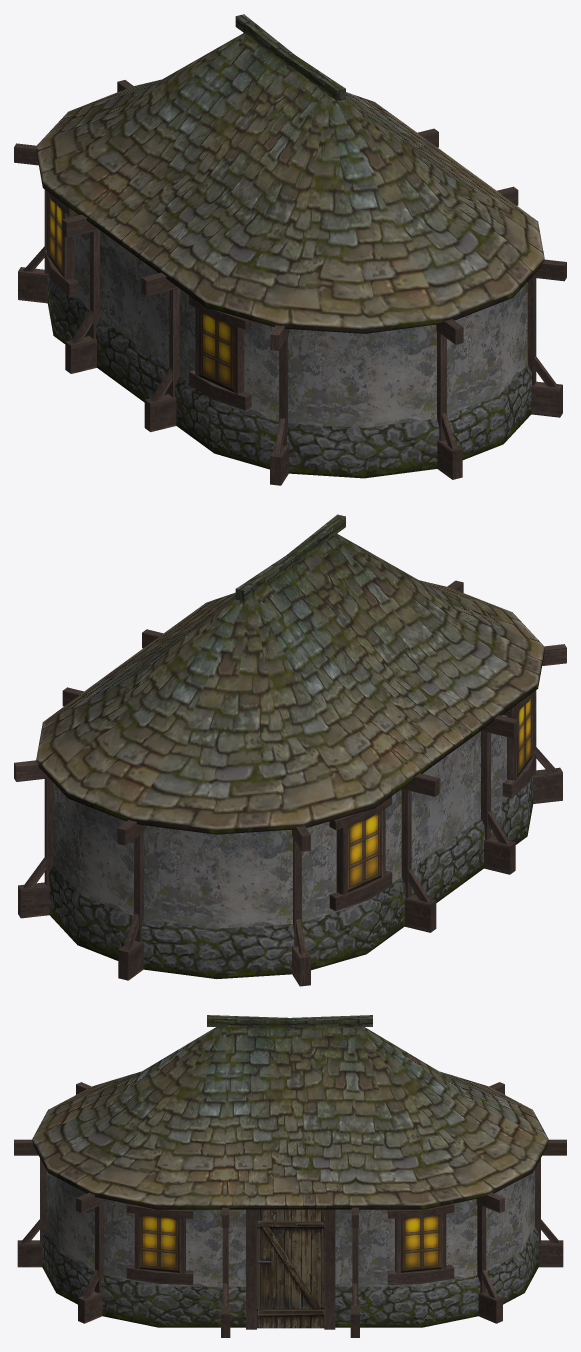
Rendered from KQZD_fangzi_2.FBX.
The picture shows the model from 3 angles, top to bottom: view 1: azimuth 30°, elevation 25°; view 2: azimuth 150°, elevation 25°; view 3: azimuth 270°, elevation 25°; orthographic projection. The views are drawn at different scales.
Visible parts, largest first — view 1: KQZD_fangzi_2; view 2: KQZD_fangzi_2; view 3: KQZD_fangzi_2.
Boxes of the visible parts, x1,y1,x2,y2 form: KQZD_fangzi_2: (14,14,566,485); KQZD_fangzi_2: (14,514,566,986); KQZD_fangzi_2: (14,1015,566,1337).
Bounding box in the file's own units: 865 × 1362 × 676.
